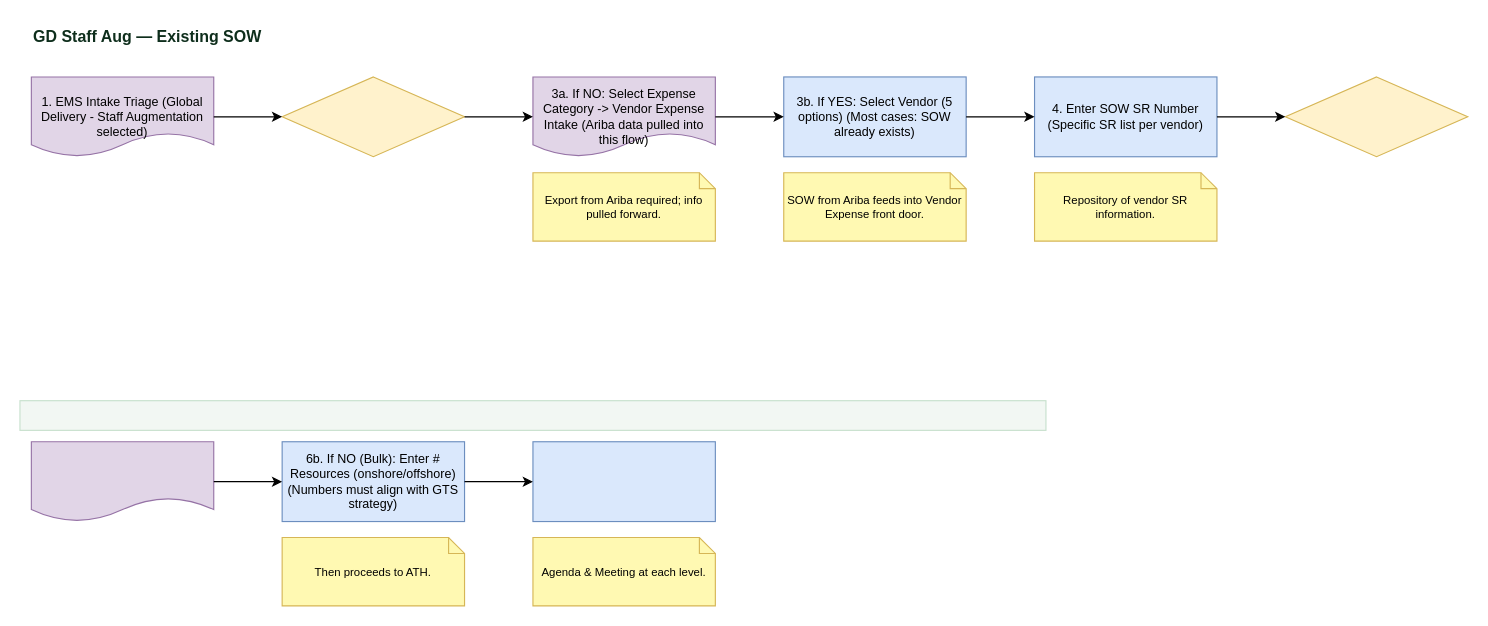
The diagram is 1488 pixels wide and 626 high, and some of its shapes have lost their labels. The shapes that lost their labels are listed below. From the top down, each one's box as (x1, y1, x2, y2) in pixels, then its label:
(281, 76, 465, 157): 2. Does an approved SOW exist? (Decision point)
(1284, 76, 1468, 157): 5. Is this a backfill position? (Decision point)
(19, 400, 1046, 430): PHASE: ATH Approval
(30, 441, 214, 522): 6a. If YES (Backfill): Go to ATH Intake
(532, 441, 715, 522): 7. ATH Approval Flow (AVP -> VP -> SVP -> EVP (pending LOB))
